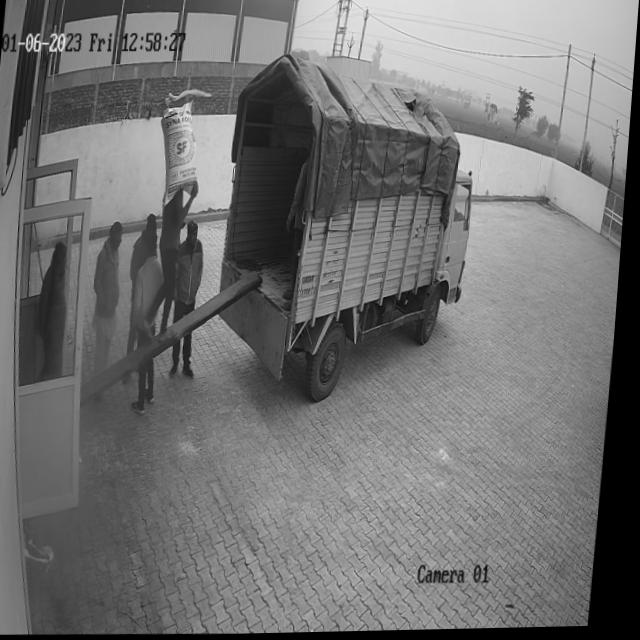sack: (157, 101, 204, 206)
